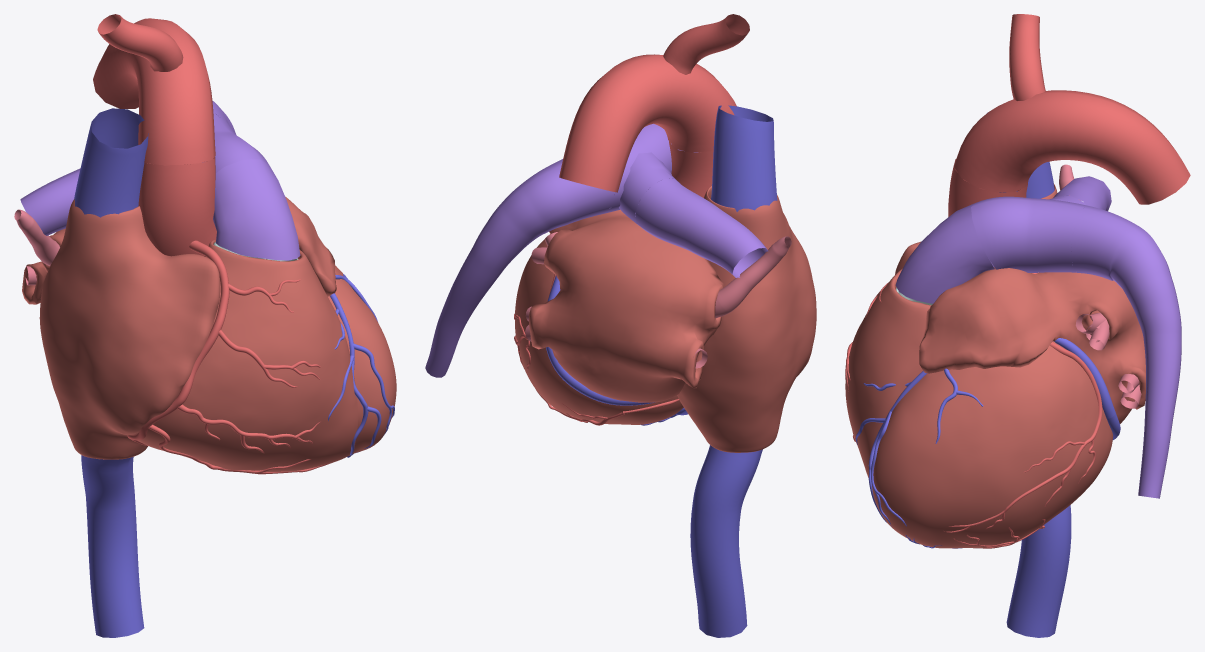
File: heart.glb
3 views of the same model, side by side, from view 1: azimuth 30°, elevation 25°; view 2: azimuth 150°, elevation 25°; view 3: azimuth 270°, elevation 25° (orthographic).
Visible parts, largest first — view 1: Right atrium, Right ventricle, Aortic arch, Inferior vena cava (thoracic part), Pulmonary trunk, Ascending aorta, Superior vena cava, Right coronary artery, Left ventricle, Left atrium, Brachiocephalic trunk, Right pulmonary artery (+3 smaller); view 2: Left atrium, Right atrium, Aortic arch, Left pulmonary artery, Inferior vena cava (thoracic part), Right pulmonary artery, Superior vena cava, Left ventricle, Bifurcation of pulmonary trunk, Brachiocephalic trunk, Right superior pulmonary vein, Ascending aorta (+1 smaller); view 3: Left ventricle, Left atrium, Aortic arch, Left pulmonary artery, Right ventricle, Bifurcation of pulmonary trunk, Inferior vena cava (thoracic part), Pulmonary trunk, Brachiocephalic trunk, Great cardiac vein, Circumflex artery of heart, Ascending aorta (+4 smaller).
Boxes of the visible parts, x1,y1,x2,y2 form: Right atrium: (39, 199, 220, 459); Right ventricle: (131, 240, 358, 472); Aortic arch: (93, 18, 215, 164); Inferior vena cava (thoracic part): (81, 455, 144, 637); Pulmonary trunk: (213, 159, 300, 260); Ascending aorta: (138, 157, 216, 256); Superior vena cava: (74, 108, 148, 217); Right coronary artery: (127, 240, 332, 474); Left ventricle: (328, 266, 396, 453); Left atrium: (22, 196, 336, 304); Brachiocephalic trunk: (97, 14, 183, 71); Right pulmonary artery: (20, 168, 80, 235); Left atrium: (529, 209, 723, 402); Right atrium: (677, 186, 816, 452); Aortic arch: (559, 54, 736, 192); Left pulmonary artery: (425, 159, 614, 377); Inferior vena cava (thoracic part): (690, 445, 762, 637); Right pulmonary artery: (635, 178, 768, 277); Superior vena cava: (711, 105, 777, 211); Left ventricle: (515, 234, 683, 424); Bifurcation of pulmonary trunk: (604, 123, 682, 225); Brachiocephalic trunk: (663, 14, 749, 74); Right superior pulmonary vein: (715, 236, 791, 318); Ascending aorta: (669, 141, 713, 197); Left ventricle: (871, 341, 1113, 548); Left atrium: (919, 267, 1145, 423); Aortic arch: (954, 90, 1190, 204); Left pulmonary artery: (1071, 206, 1181, 498); Right ventricle: (845, 268, 931, 477); Bifurcation of pulmonary trunk: (971, 195, 1087, 272); Inferior vena cava (thoracic part): (1006, 505, 1071, 637); Pulmonary trunk: (895, 203, 994, 303); Brachiocephalic trunk: (1009, 14, 1045, 100); Great cardiac vein: (855, 338, 1115, 526); Circumflex artery of heart: (943, 341, 1102, 532); Ascending aorta: (948, 159, 1038, 273).
Bounding box in the file's own units: 0.135 × 0.2448 × 0.1243.
